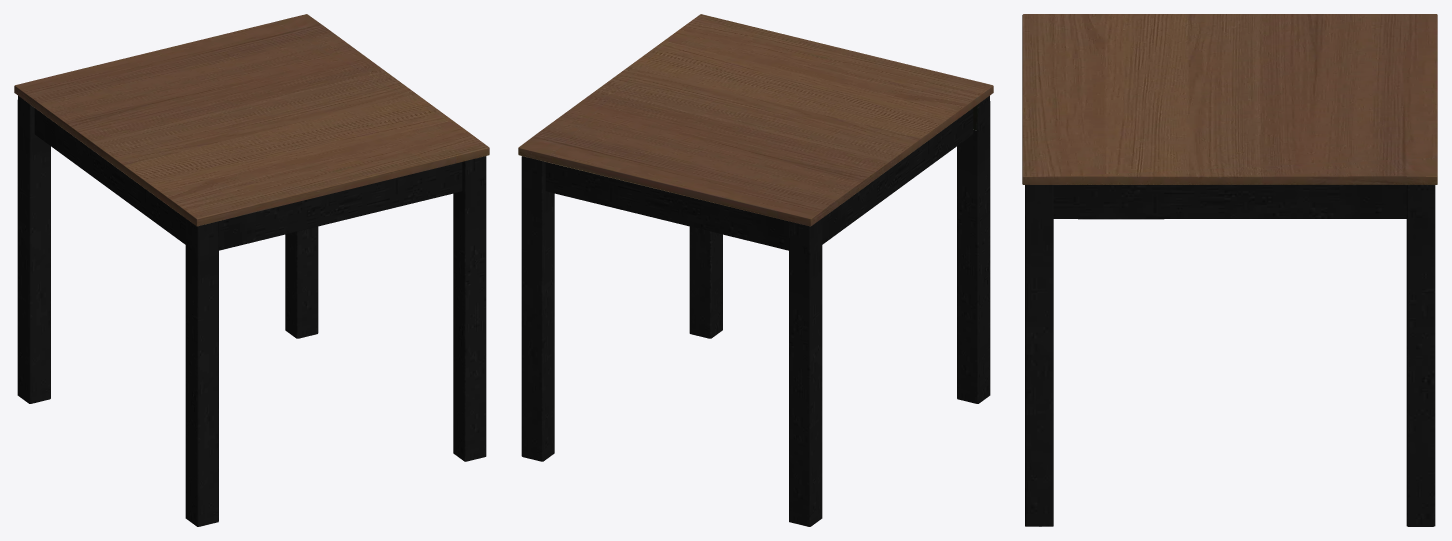
The picture shows the model from 3 angles, left to right: view 1: azimuth 30°, elevation 25°; view 2: azimuth 150°, elevation 25°; view 3: azimuth 270°, elevation 25°; orthographic projection. The views are drawn at different scales.
Visible parts, largest first — view 1: 30600798_table:1, 30600798_table:2; view 2: 30600798_table:1, 30600798_table:2; view 3: 30600798_table:1, 30600798_table:2.
Boxes of the visible parts, x1,y1,x2,y2 form: 30600798_table:1: (14,14,489,226); 30600798_table:2: (17,96,486,526); 30600798_table:1: (518,14,993,226); 30600798_table:2: (521,96,990,526); 30600798_table:1: (1022,14,1437,526); 30600798_table:2: (1025,185,1435,526).
Bounding box in the file's own units: 0.7398 × 0.75 × 0.8.
2 materials, 2 textured.
